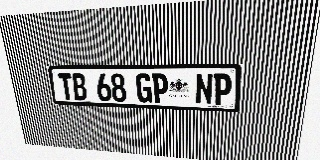6: (95, 73, 112, 102)
8: (110, 73, 127, 102)
B: (71, 73, 88, 101)
G: (136, 73, 152, 103)
N: (195, 73, 213, 105)
P: (213, 73, 232, 105), (152, 73, 168, 103)
T: (58, 73, 74, 100)
